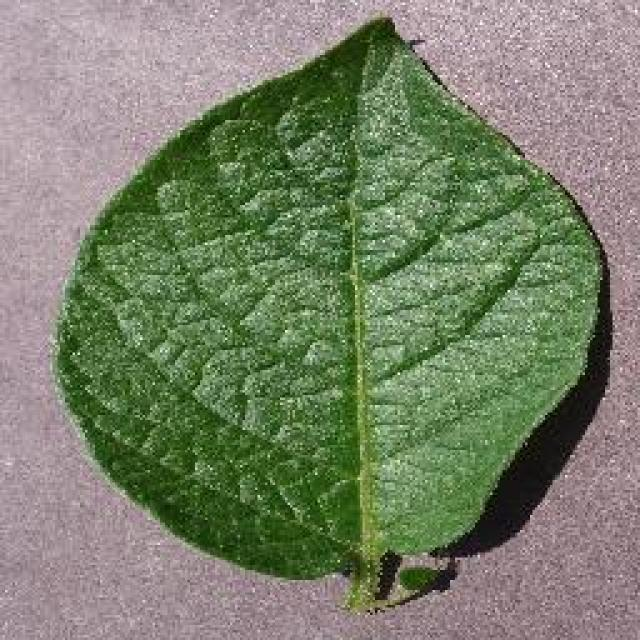healthy: (48, 12, 612, 612)
